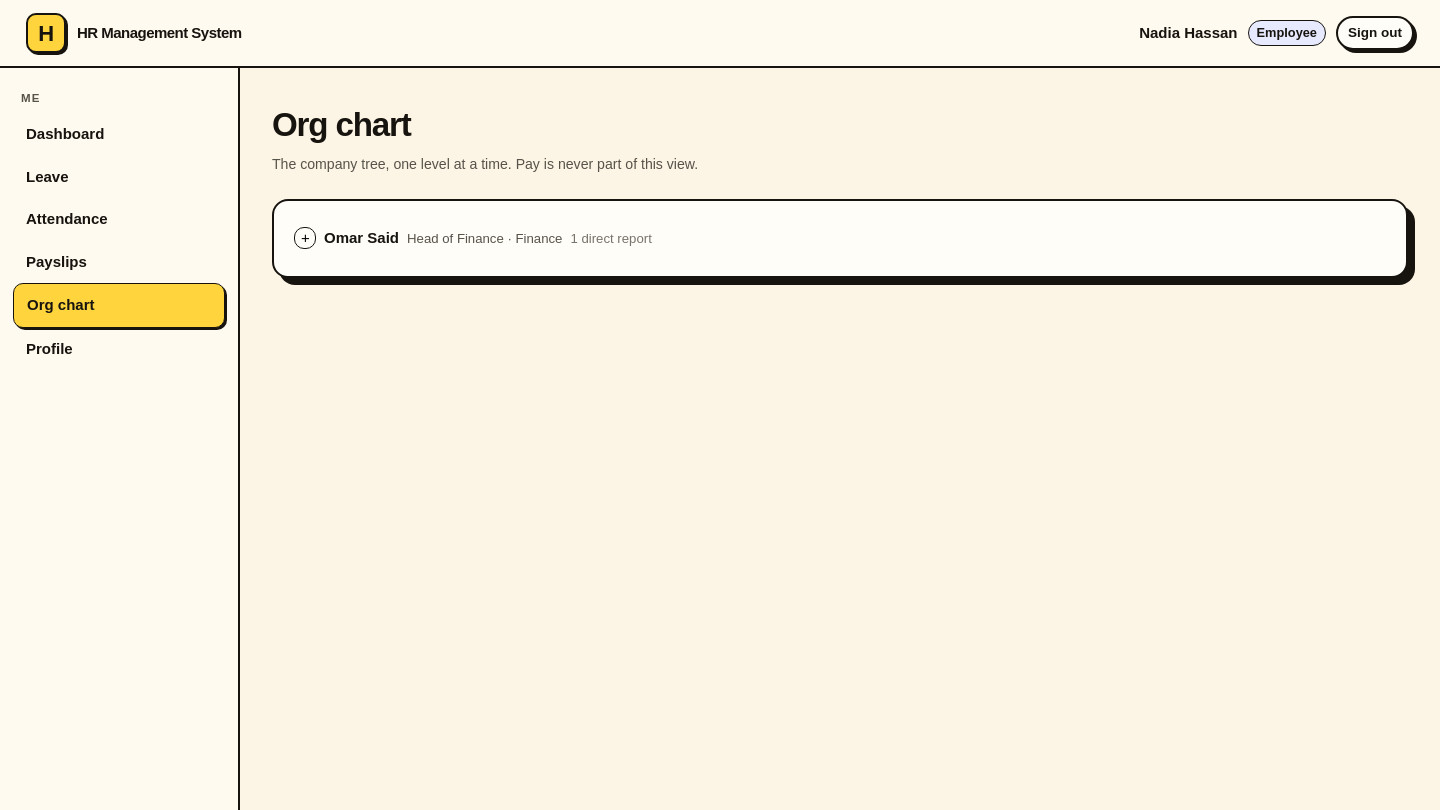
org chart › drills deeper one level at a time
The image size is (1440, 810).
Click the button named "Expand the reports of Omar Said". click: point(305, 238)
box: [294,227,316,249]
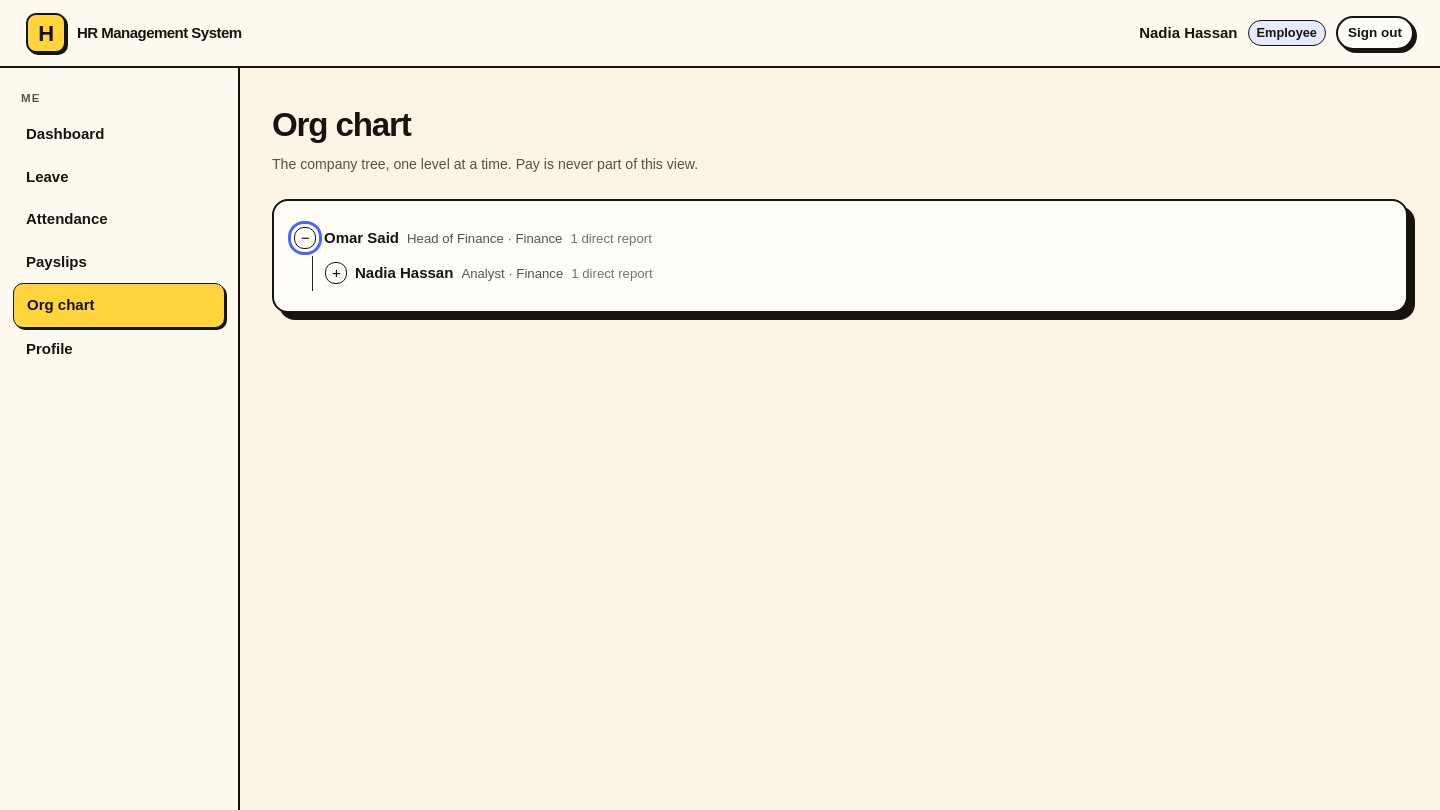
Result: the text "Nadia Hassan" next to "Analyst" is shown at [355,264,453,281]
Click the button named "Expand the reports of Nadia Hassan". click: point(336, 273)
box: [325,262,347,284]
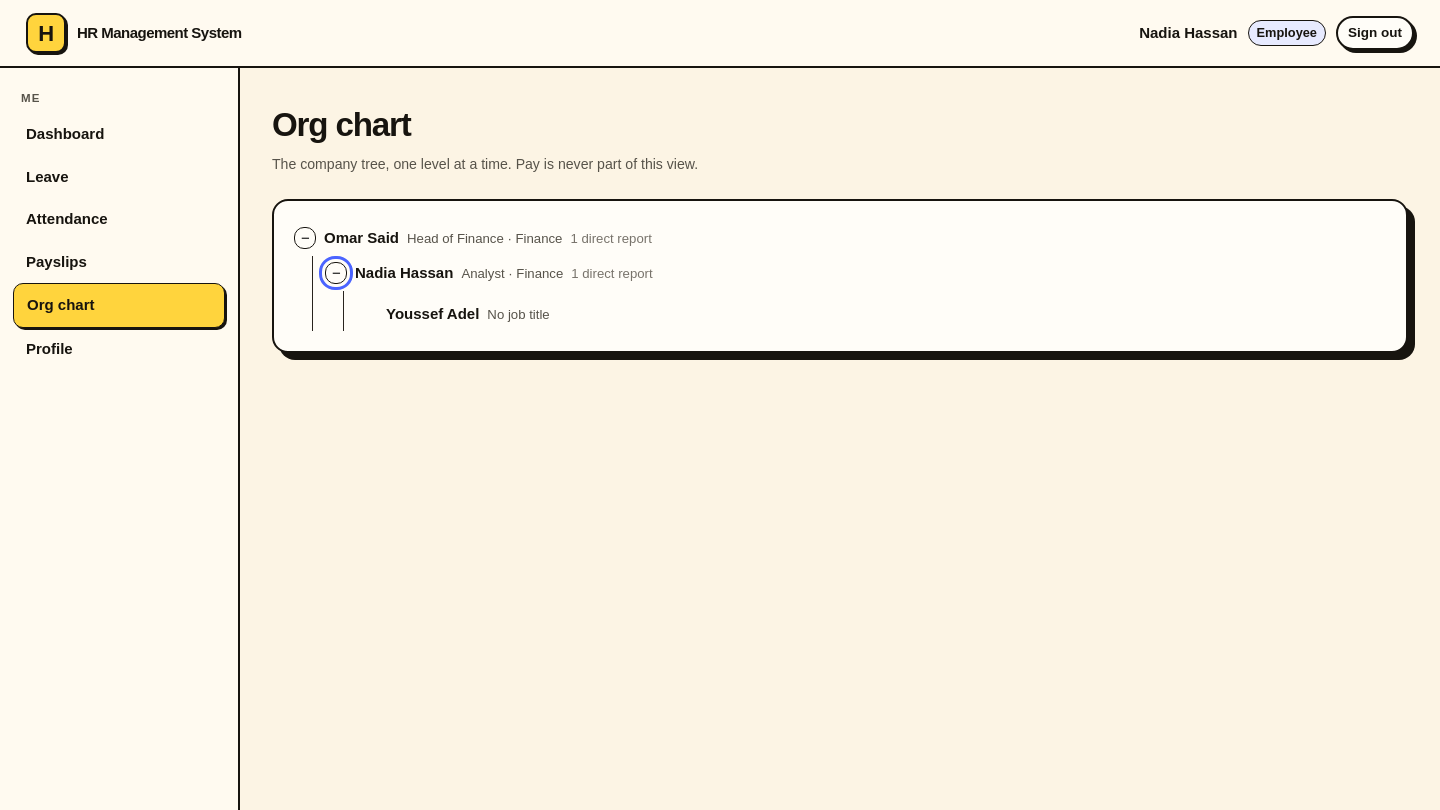
Result: the text "Youssef Adel" is shown at [386,303,479,325]
